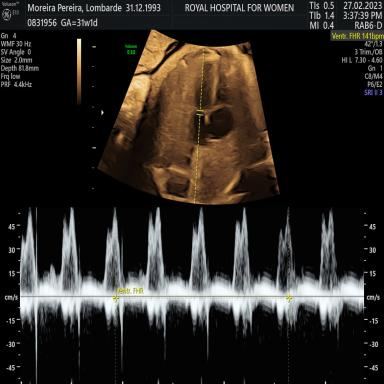Ultrasound-Waves: (24, 202, 364, 382)
